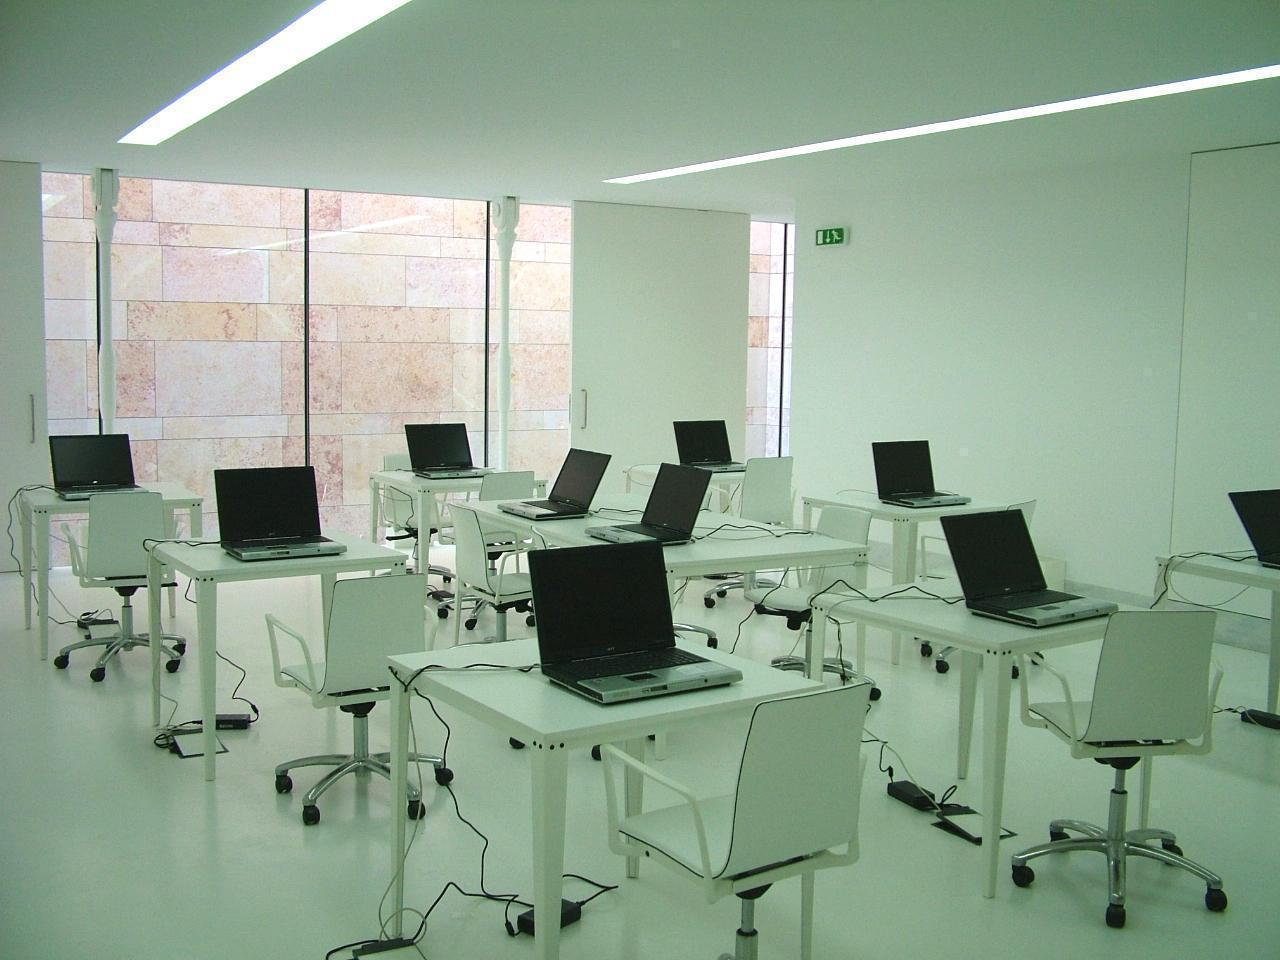Puerta: (1164, 134, 1271, 584), (574, 209, 743, 468)
Ventana: (108, 185, 311, 479), (303, 185, 490, 447)
